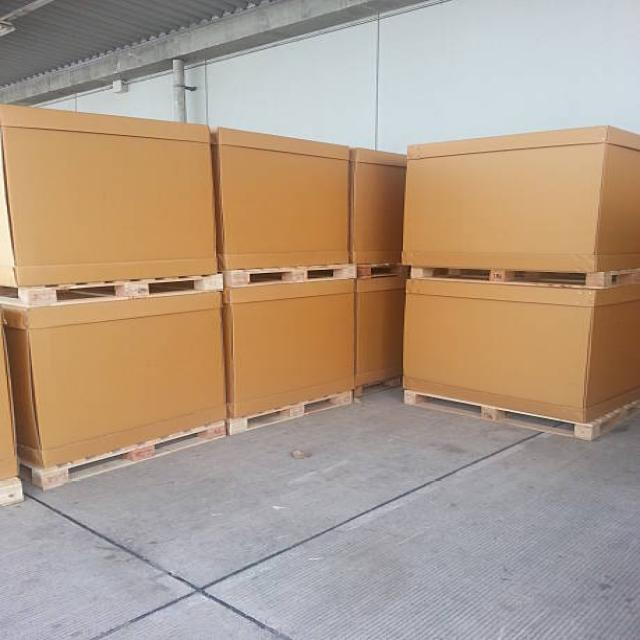Wooden-Pallets: (374, 375, 635, 463), (32, 415, 227, 502), (8, 261, 223, 327), (394, 249, 627, 297), (237, 381, 355, 445), (233, 258, 361, 300)
